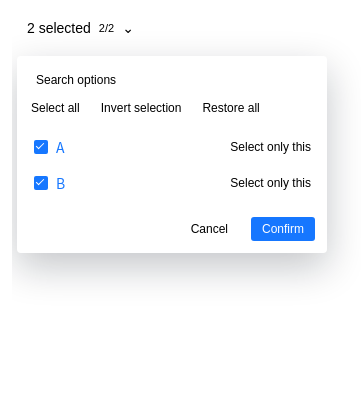
Test: NcMultiValueFilter › localizes shared filter controls in the English runtime locale
The image size is (361, 418).
Expected: the text with class "nc-multi-value-filter__caption" reads "2 selected", 27,20 -> 91,36
Type "missing" into the field with placeholder "Search options". click: coordinates (172, 80)
box: 36,69 -> 308,91
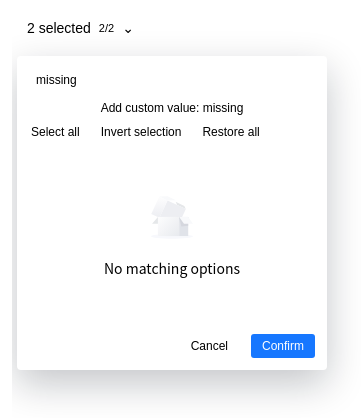
Expected: the text "No matching options" is shown, 104,259 -> 240,278
